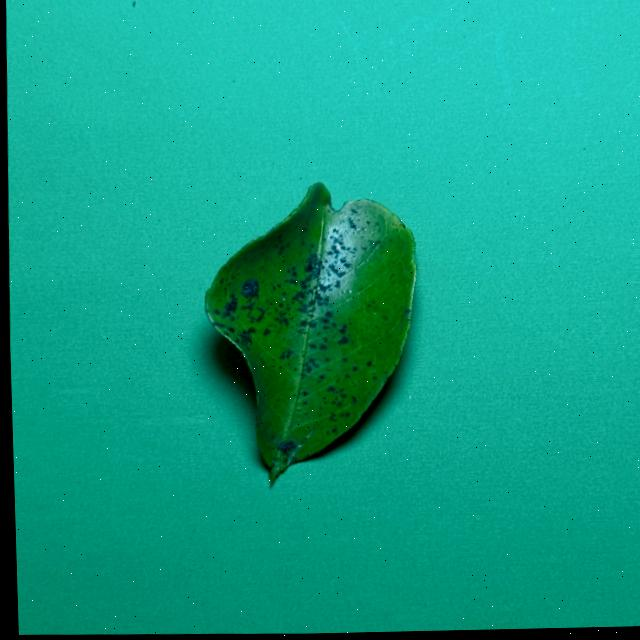sooty_mold: (205, 182, 415, 484)
